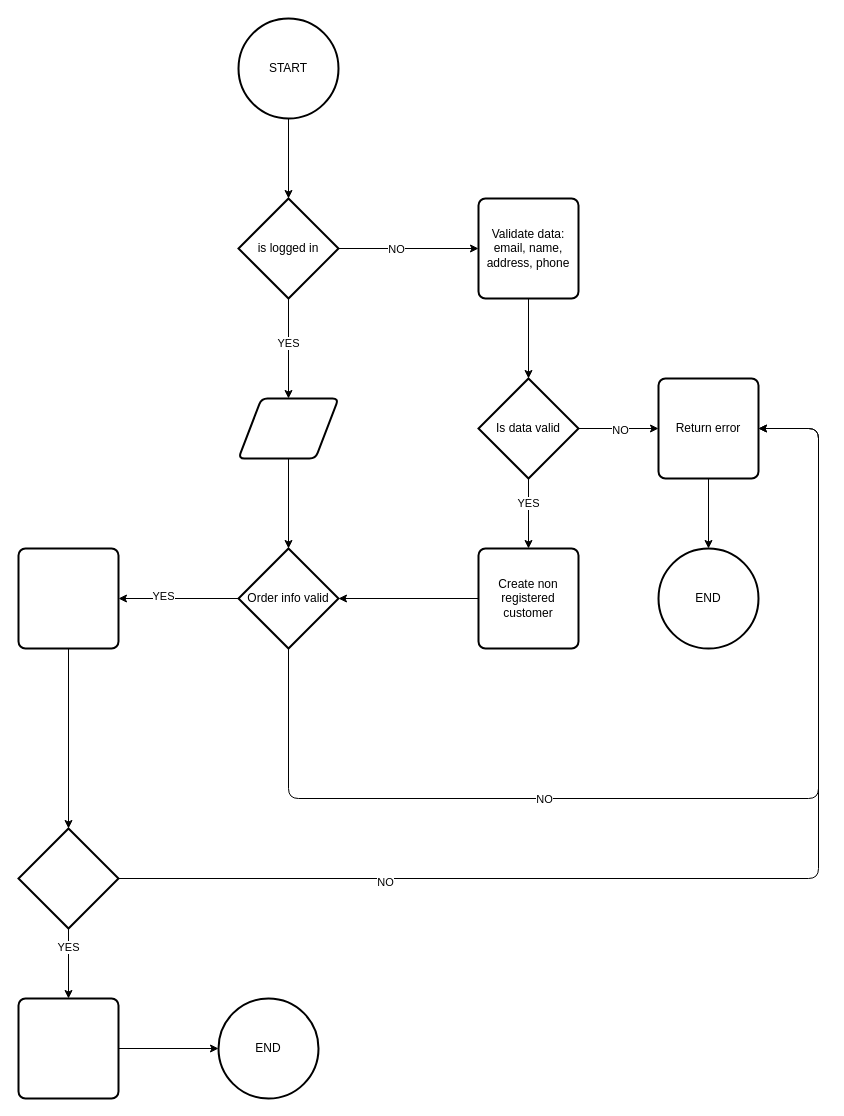
Some shapes in this 844 by 1116 pixel diagram are drawn without their labels. The centre of each missing label's shape, as x and y in pixels:
"Create order" belongs at point (68, 598).
"Get customer info" belongs at point (288, 428).
"Order created" belongs at point (68, 878).
"Return order" belongs at point (68, 1048).
